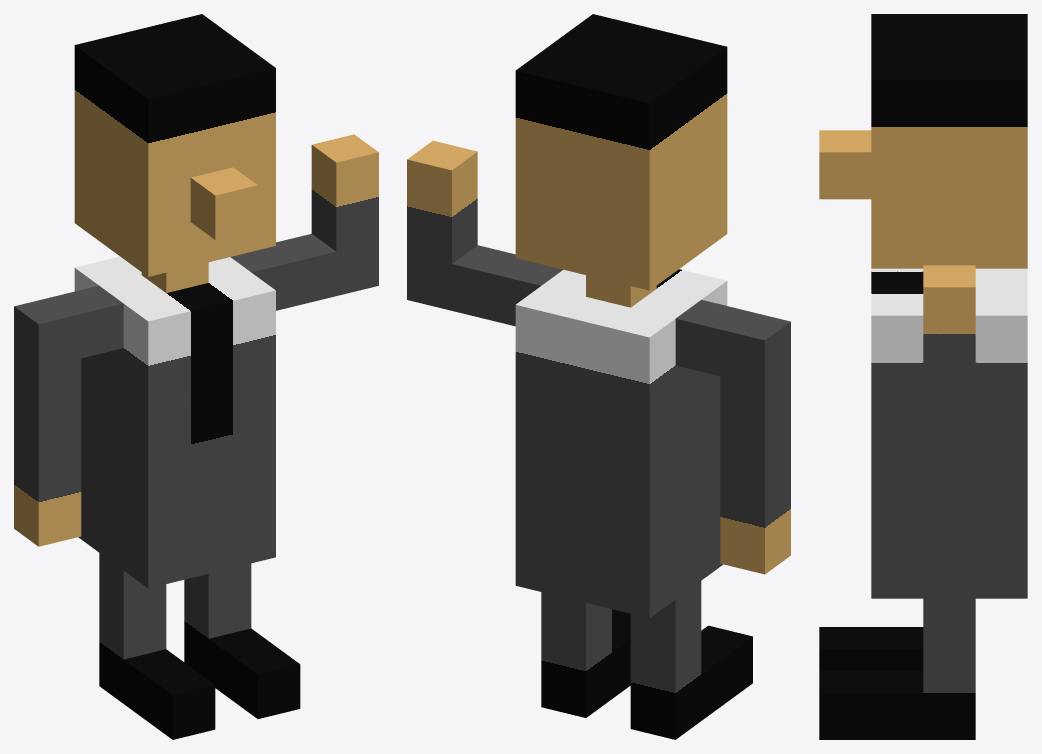
3 renders of one model, left to right at view 1: azimuth 30°, elevation 25°; view 2: azimuth 150°, elevation 25°; view 3: azimuth 270°, elevation 25°, orthographic. The views are drawn at different scales.
Visible parts, largest first — view 1: test.merged; view 2: test.merged; view 3: test.merged.
Boxes of the visible parts, <box> form: test.merged: <box>14,14,378,739</box>; test.merged: <box>407,14,790,739</box>; test.merged: <box>819,14,1027,739</box>.
Bounding box in the file's own units: 0.8 × 0.4 × 1.4.
Materials: 1 (1 with a texture image).
